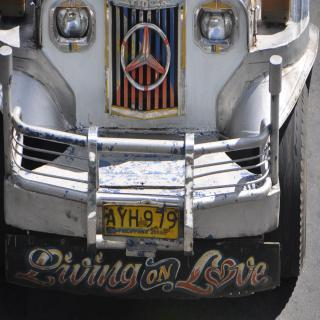license: (104, 206, 180, 240)
